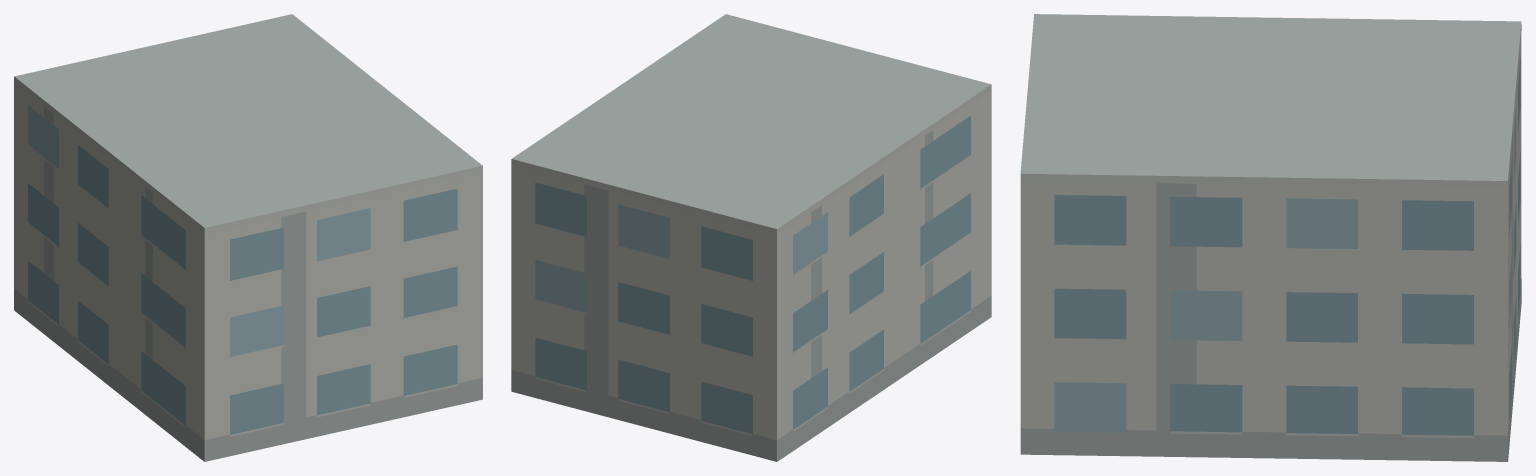
Rendered from residential-03b9e1da-ebc8-477d-bcf4-c50e75adc467.glb.
3 views of the same model, side by side, from view 1: azimuth 30°, elevation 25°; view 2: azimuth 150°, elevation 25°; view 3: azimuth 270°, elevation 25° (orthographic). The views are drawn at different scales.
Parts seen in each view (by area): view 1: residential-03b9e1da-ebc8-477d-bcf4-c50e75adc467.tmp; view 2: residential-03b9e1da-ebc8-477d-bcf4-c50e75adc467.tmp; view 3: residential-03b9e1da-ebc8-477d-bcf4-c50e75adc467.tmp.
Part boxes in pixels (x1,y1,x2,y2): residential-03b9e1da-ebc8-477d-bcf4-c50e75adc467.tmp: [14, 14, 482, 461]; residential-03b9e1da-ebc8-477d-bcf4-c50e75adc467.tmp: [511, 14, 991, 461]; residential-03b9e1da-ebc8-477d-bcf4-c50e75adc467.tmp: [1020, 14, 1521, 461].
Bounding box in the file's own units: 11.68 × 9.15 × 14.81.
